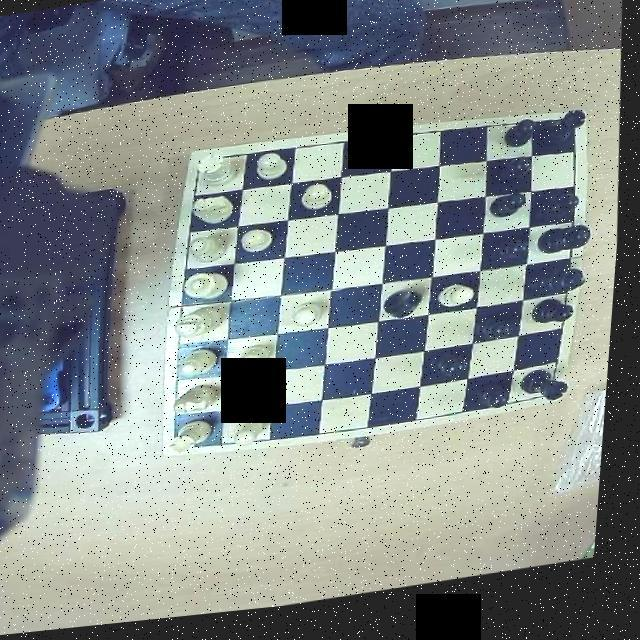chess-table-corners: (190, 154, 222, 188), (168, 426, 198, 459), (556, 124, 586, 156), (546, 388, 572, 414)
